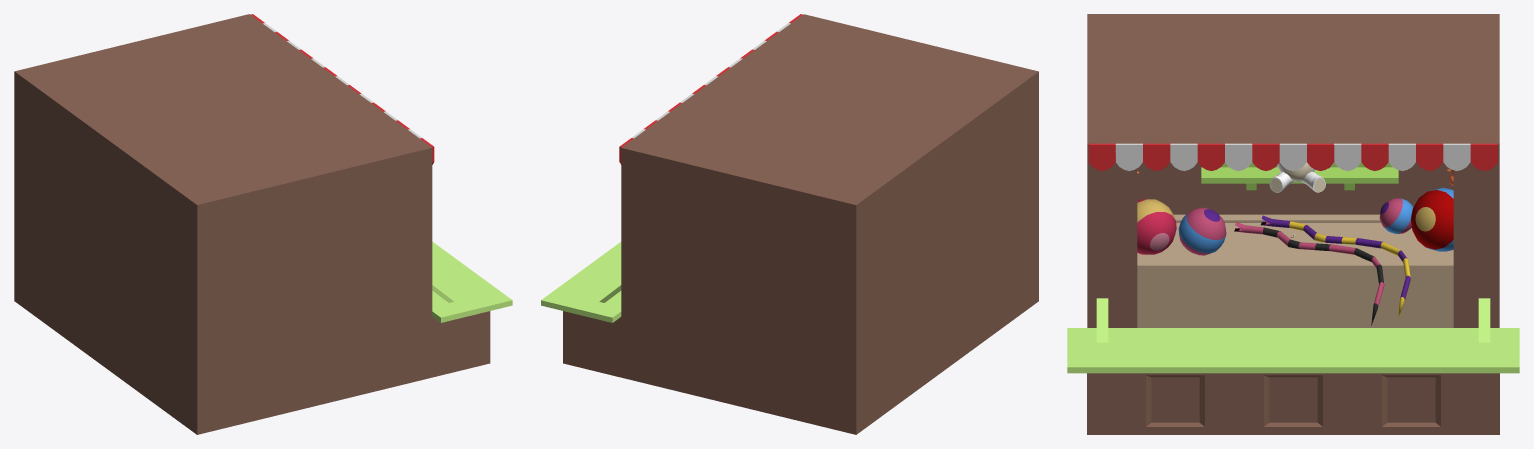
File: CasetaRelleno.fbx
The picture shows the model from 3 angles, left to right: view 1: azimuth 30°, elevation 25°; view 2: azimuth 150°, elevation 25°; view 3: azimuth 270°, elevation 25°; orthographic projection. The views are drawn at different scales.
Visible parts, largest first — view 1: caseta, BARRA, Cube.006; view 2: caseta, BARRA, Cube.006; view 3: caseta, Box001, Cube.006, BARRA, Estante.002, Pelota.002, Pelota, Pelota.001, Line001, Line001.001, Pelota.003, Banderines07 (+14 smaller).
Boxes of the visible parts, x1,y1,x2,y2 form: caseta: (14, 14, 432, 434); BARRA: (432, 242, 512, 322); Cube.006: (432, 311, 490, 377); caseta: (621, 14, 1038, 434); BARRA: (541, 242, 621, 322); Cube.006: (563, 311, 621, 377); caseta: (1087, 14, 1499, 327); Box001: (1137, 214, 1453, 327); Cube.006: (1087, 373, 1499, 434); BARRA: (1067, 298, 1519, 373); Estante.002: (1201, 162, 1398, 190); Pelota.002: (1411, 187, 1453, 251); Pelota: (1137, 199, 1176, 254); Pelota.001: (1178, 207, 1226, 255); Line001: (1260, 215, 1410, 319); Line001.001: (1234, 222, 1384, 325); Pelota.003: (1379, 198, 1413, 233); Banderines07: (1252, 143, 1279, 170).
Size of the model in its own units: 1451 by 1039 by 1643.
